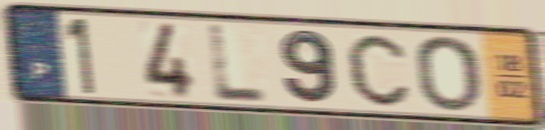1: (63, 15, 98, 96)
4: (140, 19, 198, 102)
9: (276, 26, 340, 107)
C: (344, 32, 412, 109)
L: (206, 22, 272, 105)
O: (412, 33, 483, 114)
